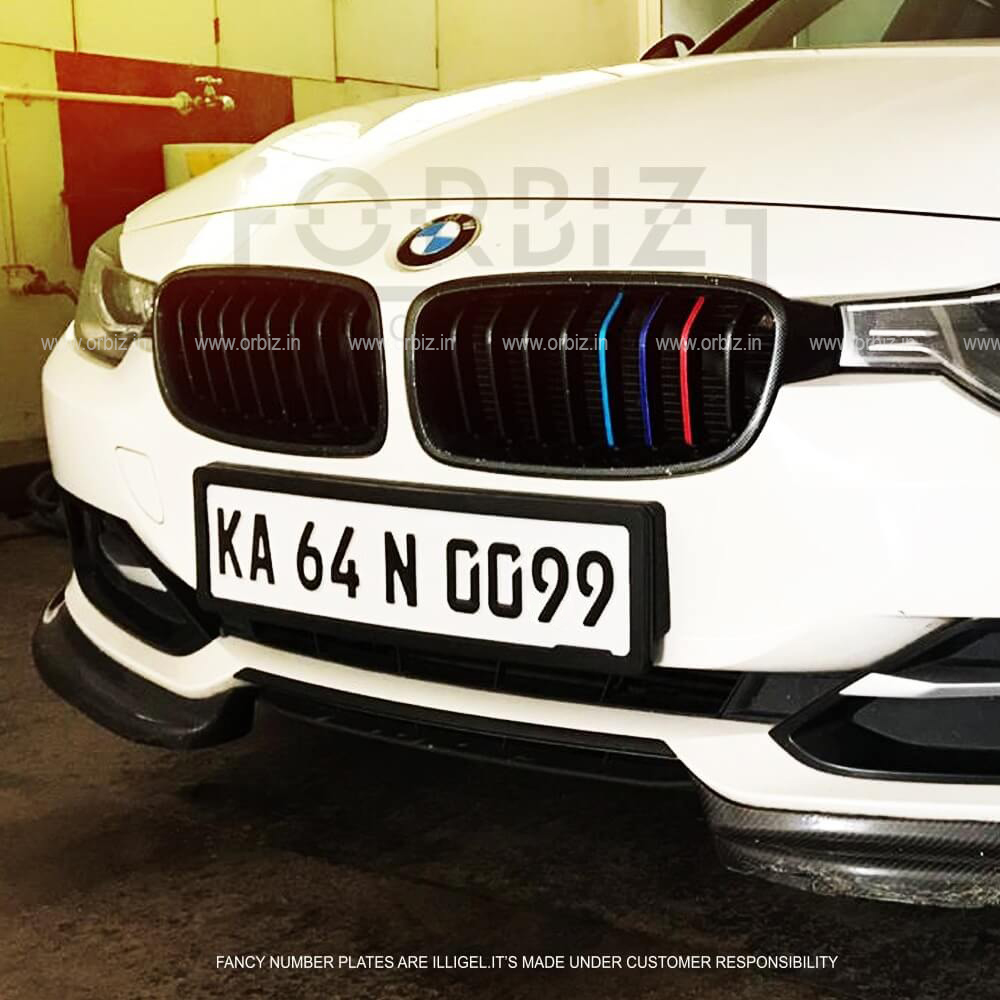number_plates: (205, 484, 635, 653)
